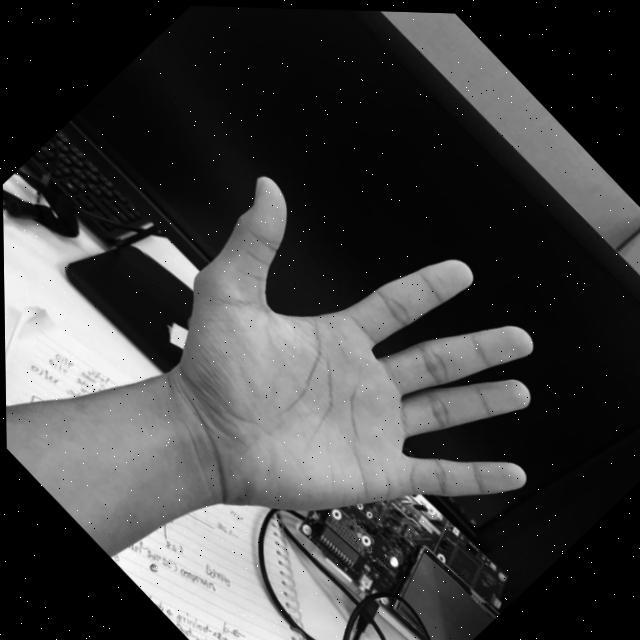no-gloves: (90, 105, 608, 630)
